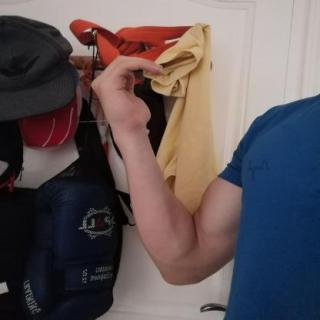HAA: (80, 47, 178, 138)
